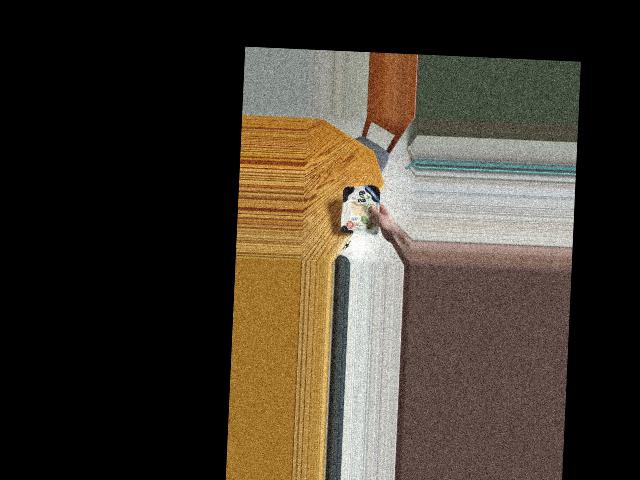cheese: (341, 184, 383, 237)
